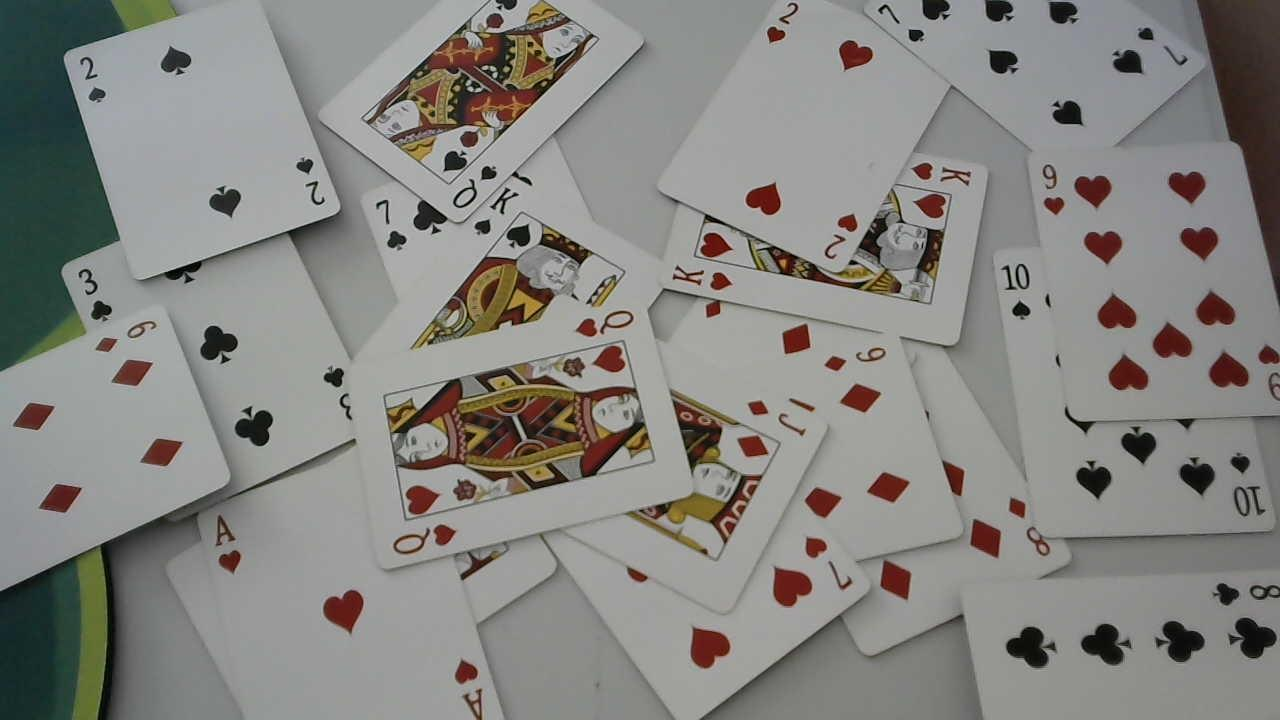10S: (1224, 445, 1267, 519), (998, 257, 1034, 324)
2H: (761, 0, 810, 48), (821, 209, 856, 262)
2S: (293, 152, 327, 211), (77, 53, 108, 105)
3C: (75, 265, 117, 325)
6D: (95, 317, 161, 359)
7C: (371, 195, 410, 255)
7H: (797, 526, 857, 593)
7S: (1132, 19, 1197, 67), (875, 0, 932, 50)
8C: (1207, 574, 1280, 612)
8D: (1006, 487, 1051, 558)
9D: (820, 342, 888, 374)
9H: (1036, 160, 1067, 220), (1251, 339, 1280, 403)
AH: (449, 649, 490, 720), (207, 513, 249, 581)
JD: (741, 393, 810, 439)
KH: (909, 155, 976, 191), (668, 262, 739, 292)
KS: (472, 186, 524, 238)
QH: (392, 520, 460, 557), (571, 309, 637, 339)
QS: (450, 157, 500, 209)
